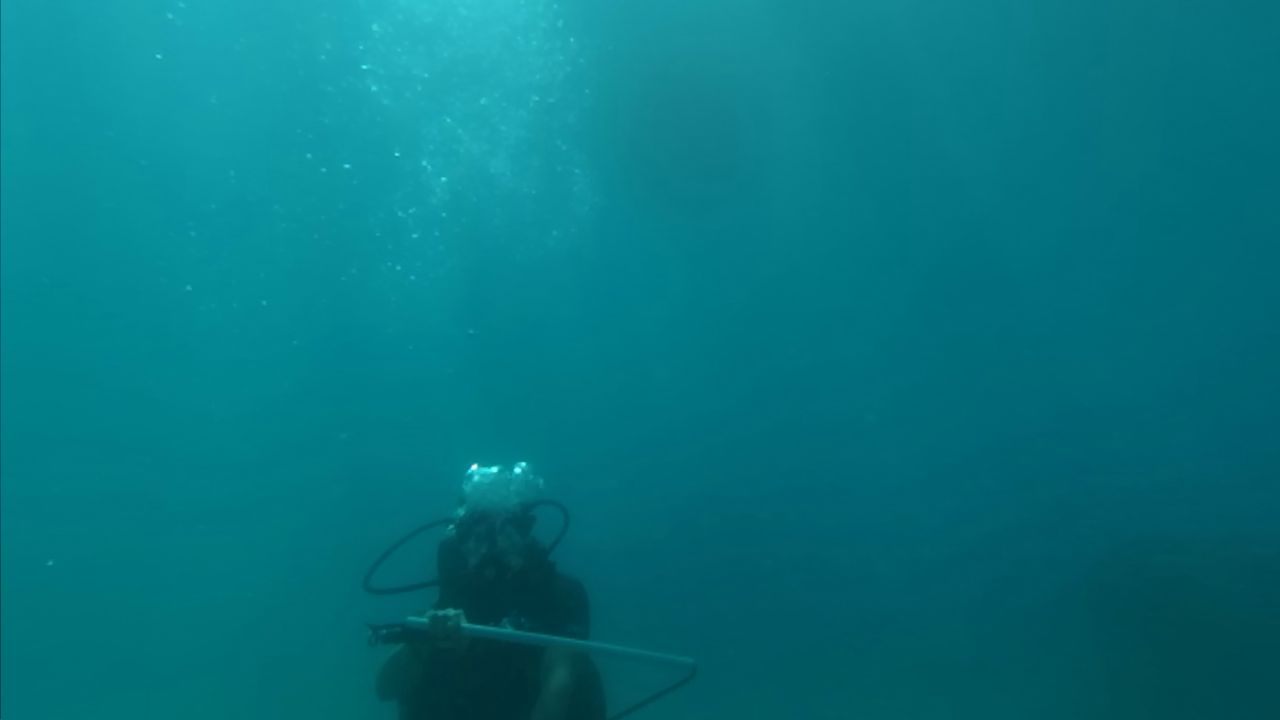Hand: (402, 602, 474, 660)
